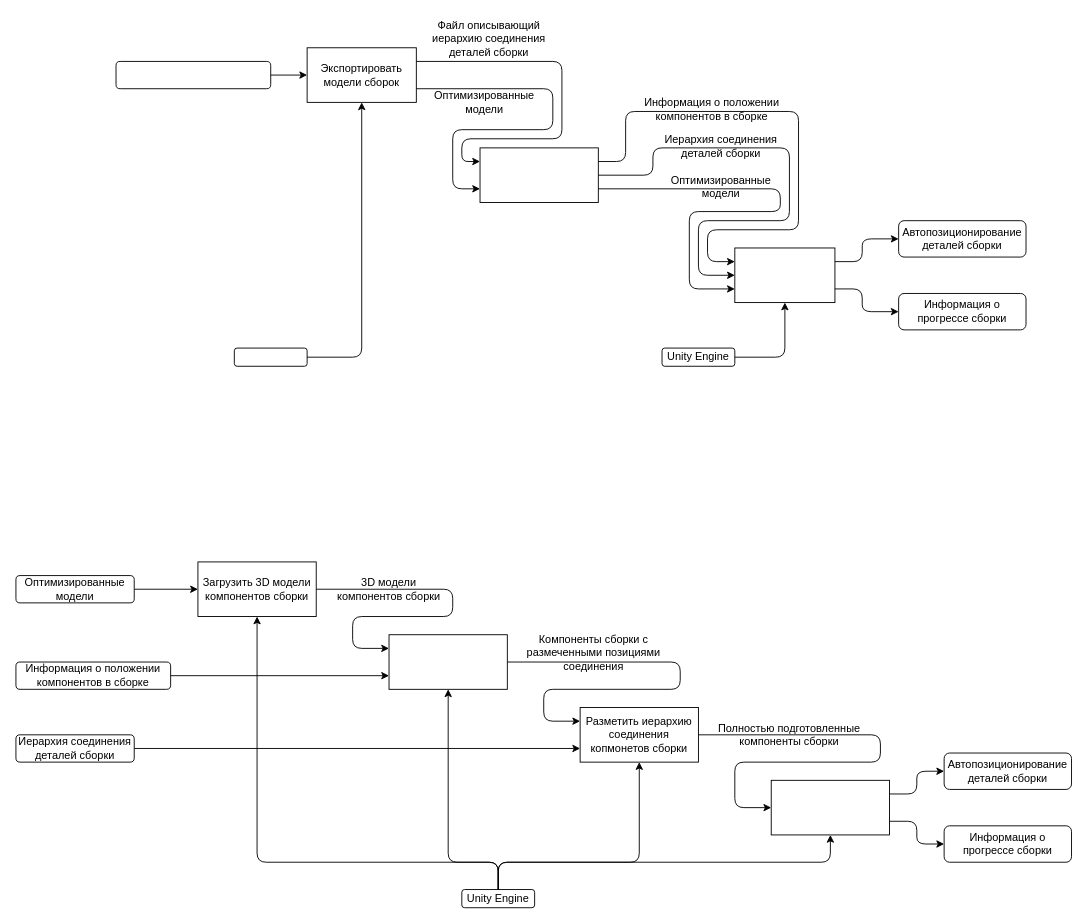
Some shapes in this 1087 by 924 pixel diagram are drawn without their labels. The centre of each missing label's shape, as x and y in pixels:
3D модели сборок сложных технических систем: (x=193, y=75)
Inventor API: (x=270, y=356)
Отслеживать состояние сборки: (x=830, y=807)
Позиционировать детали сборок: (x=784, y=275)
Разметить позиции соединения компонентов: (x=447, y=661)
Хранить компонентов сборок в базе данных: (x=538, y=174)
